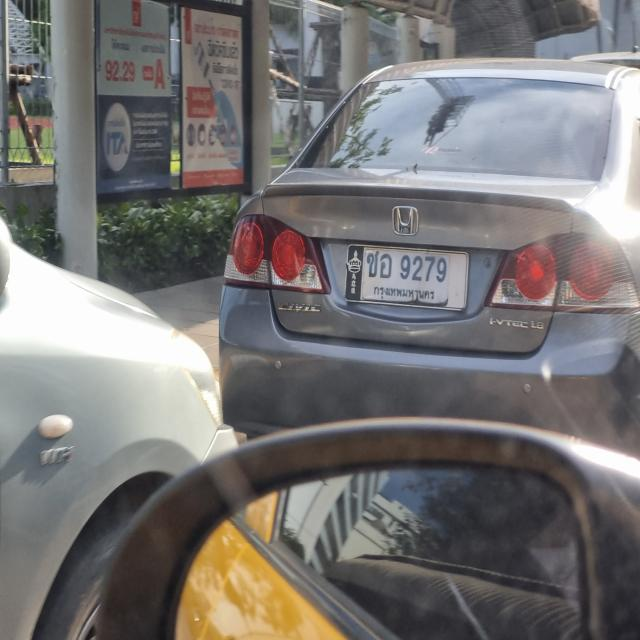license_plate: (344, 236, 473, 315)
